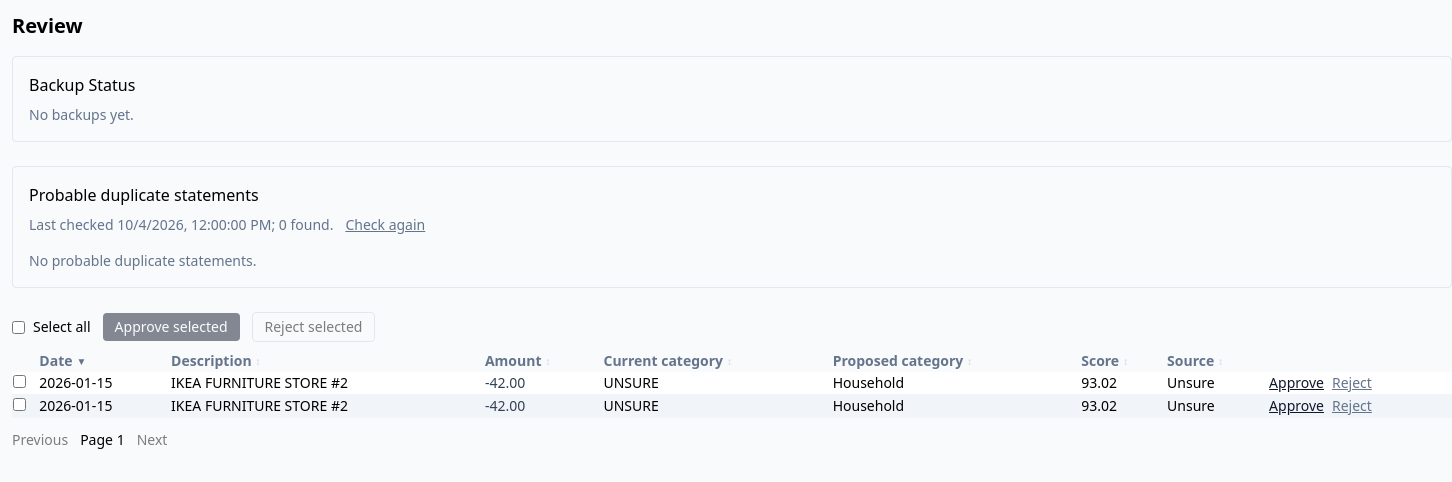
Test: ReviewPage › shows an inline notice for proposals that fail a bulk action
Click the checkbox with test id "review-select-all".
click(18, 327)  # box [12,320,25,334]
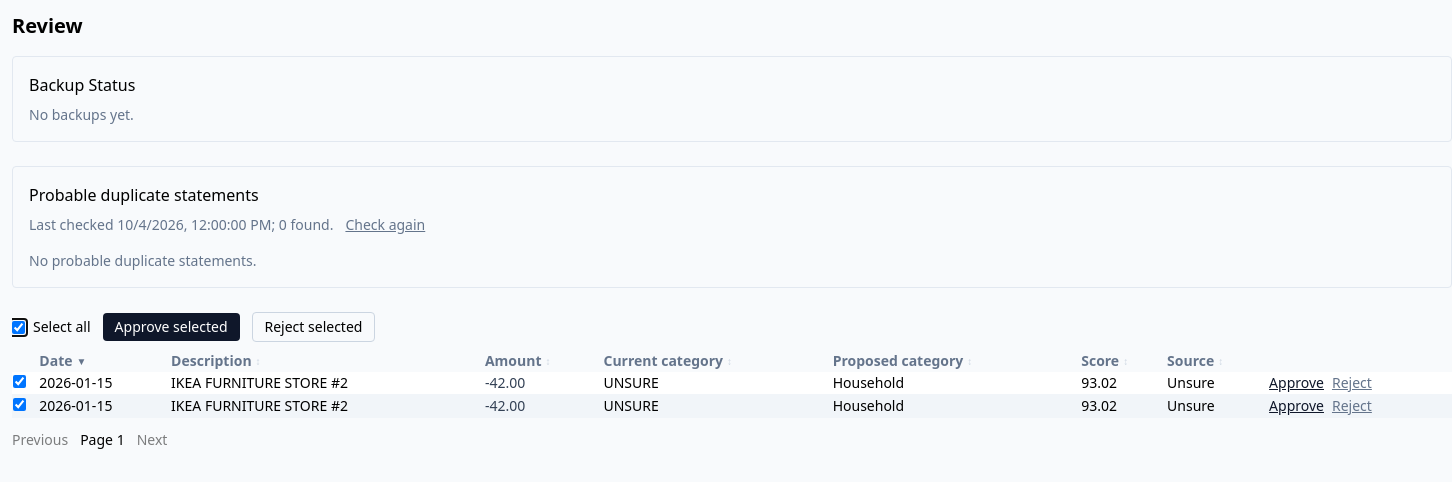
Click the button with test id "review-bulk-approve".
click(171, 327)  # box [103,313,240,341]
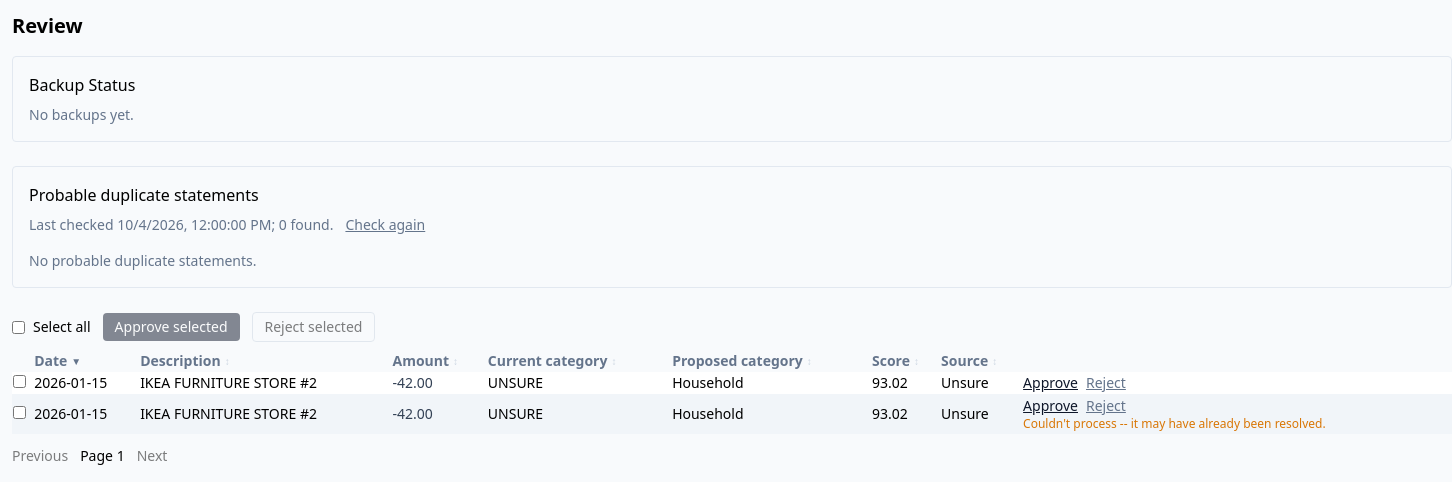
Expected: the text with test id "review-failed-p2" shows "already been resolved", [1023,415,1326,432]
